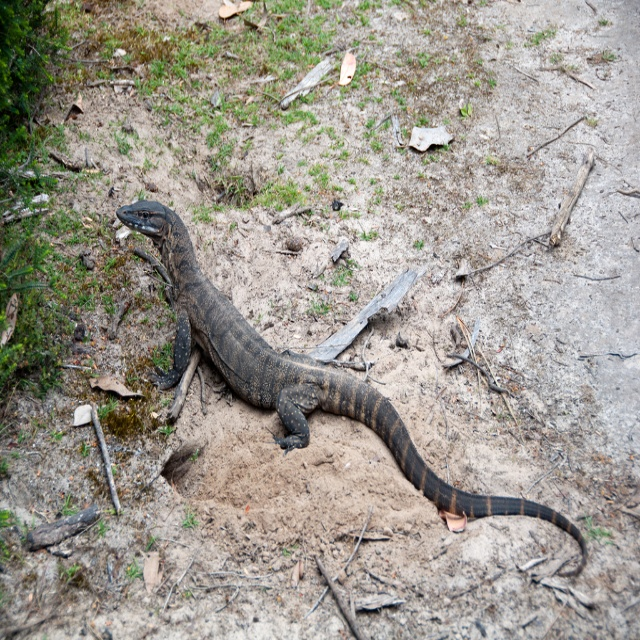Lizard: (96, 201, 597, 573)
